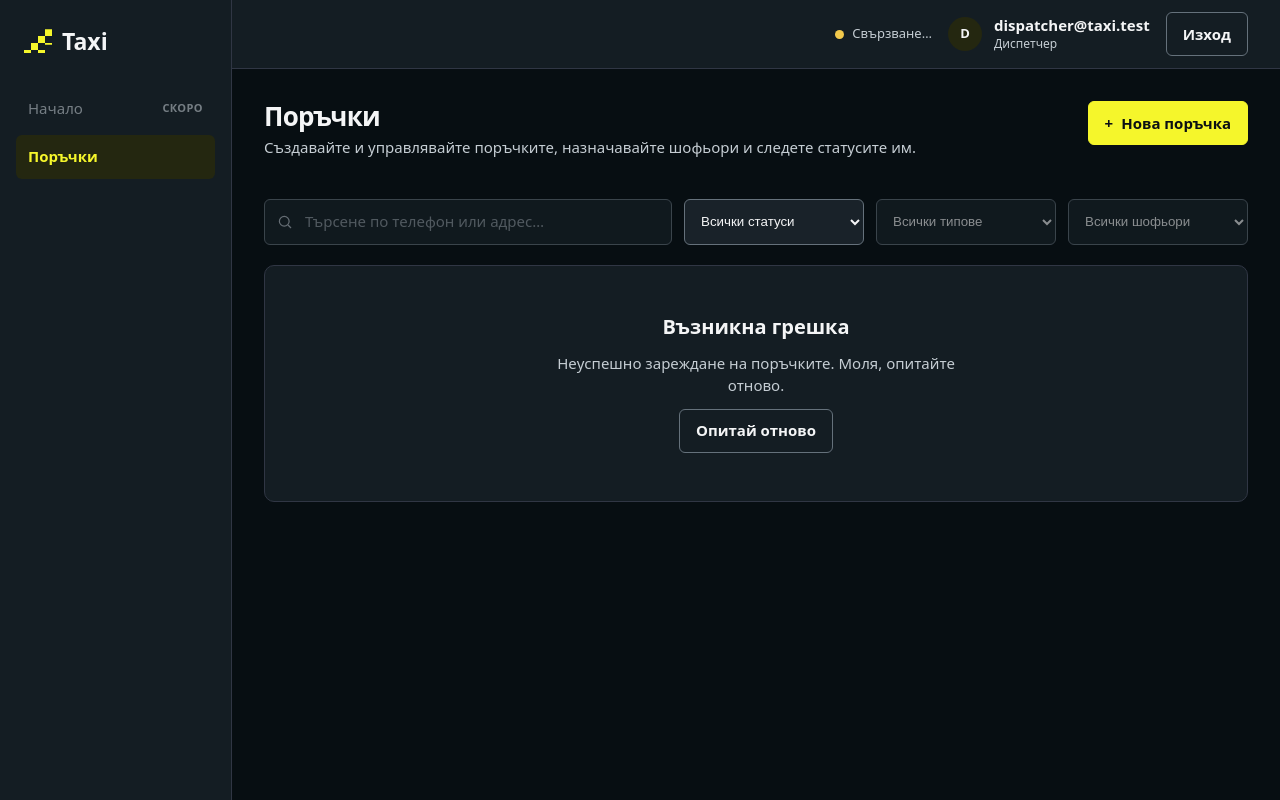
Test: RidesPage (mocked ride port, not live integration) › list › shows a retryable error when the list cannot be loaded
Check: the message that starts with "Възникна грешка" shows "Неуспешно зареждане на поръчките. Моля, опитайте отново.", box [557,353,955,395]
Click the button "Опитай отново" at (756, 431), box [679,409,833,453]
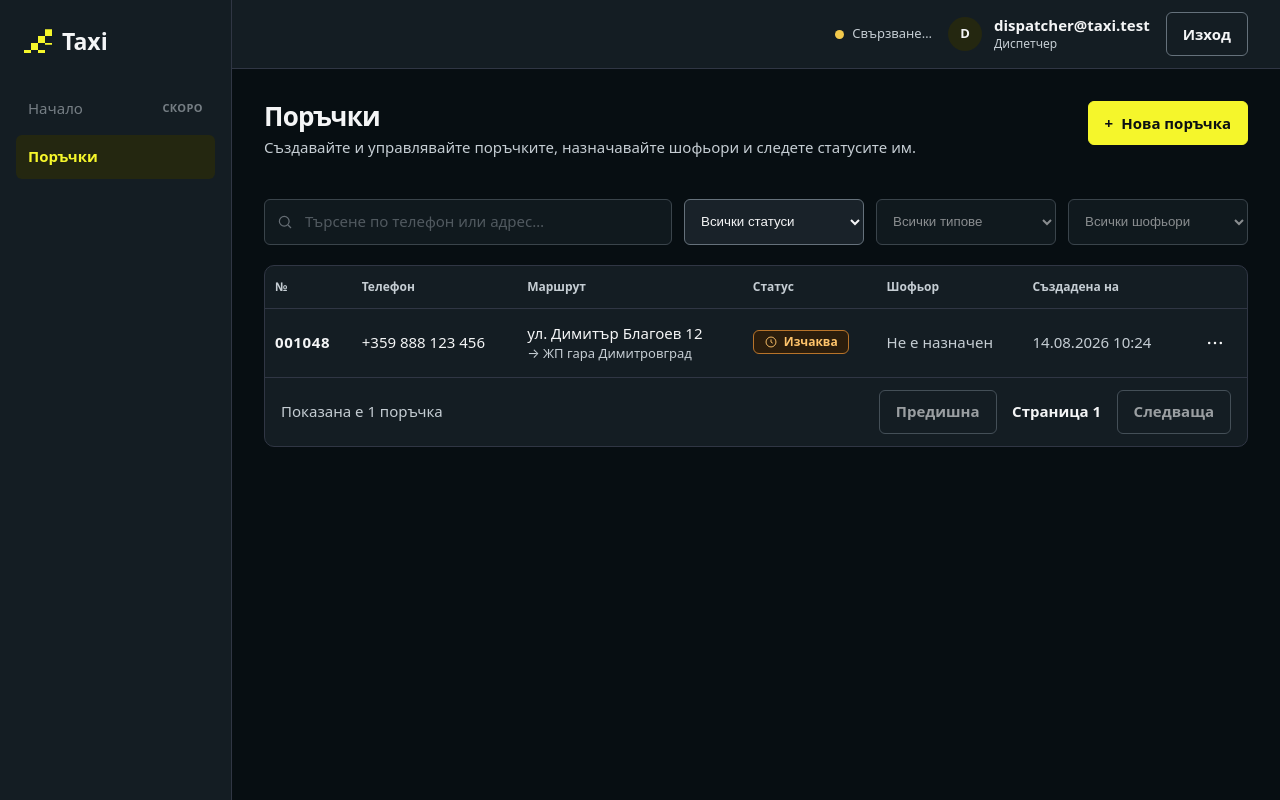
Check: the column heading "001048" is shown, box [265,309,352,377]
